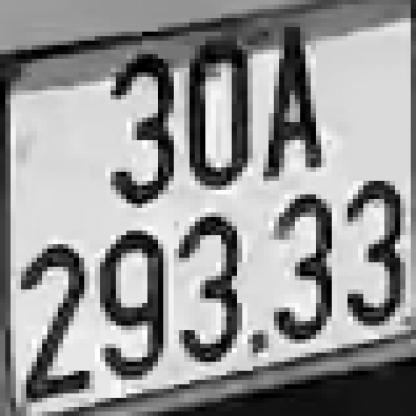0: (190, 45, 252, 181)
2: (21, 244, 90, 398)
3: (100, 59, 169, 208), (264, 199, 326, 335), (179, 213, 237, 357), (342, 181, 400, 321)
9: (100, 226, 163, 375)
A: (264, 18, 322, 172)
